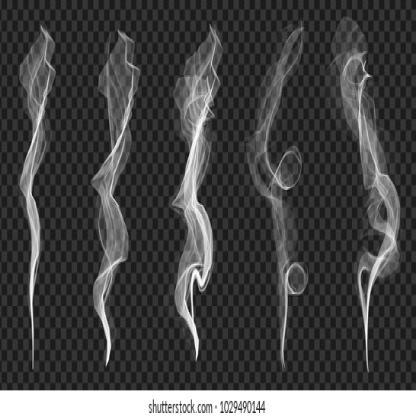smoke: (340, 44, 400, 372), (253, 28, 305, 364), (170, 29, 222, 358), (90, 33, 141, 368), (17, 32, 55, 370)
